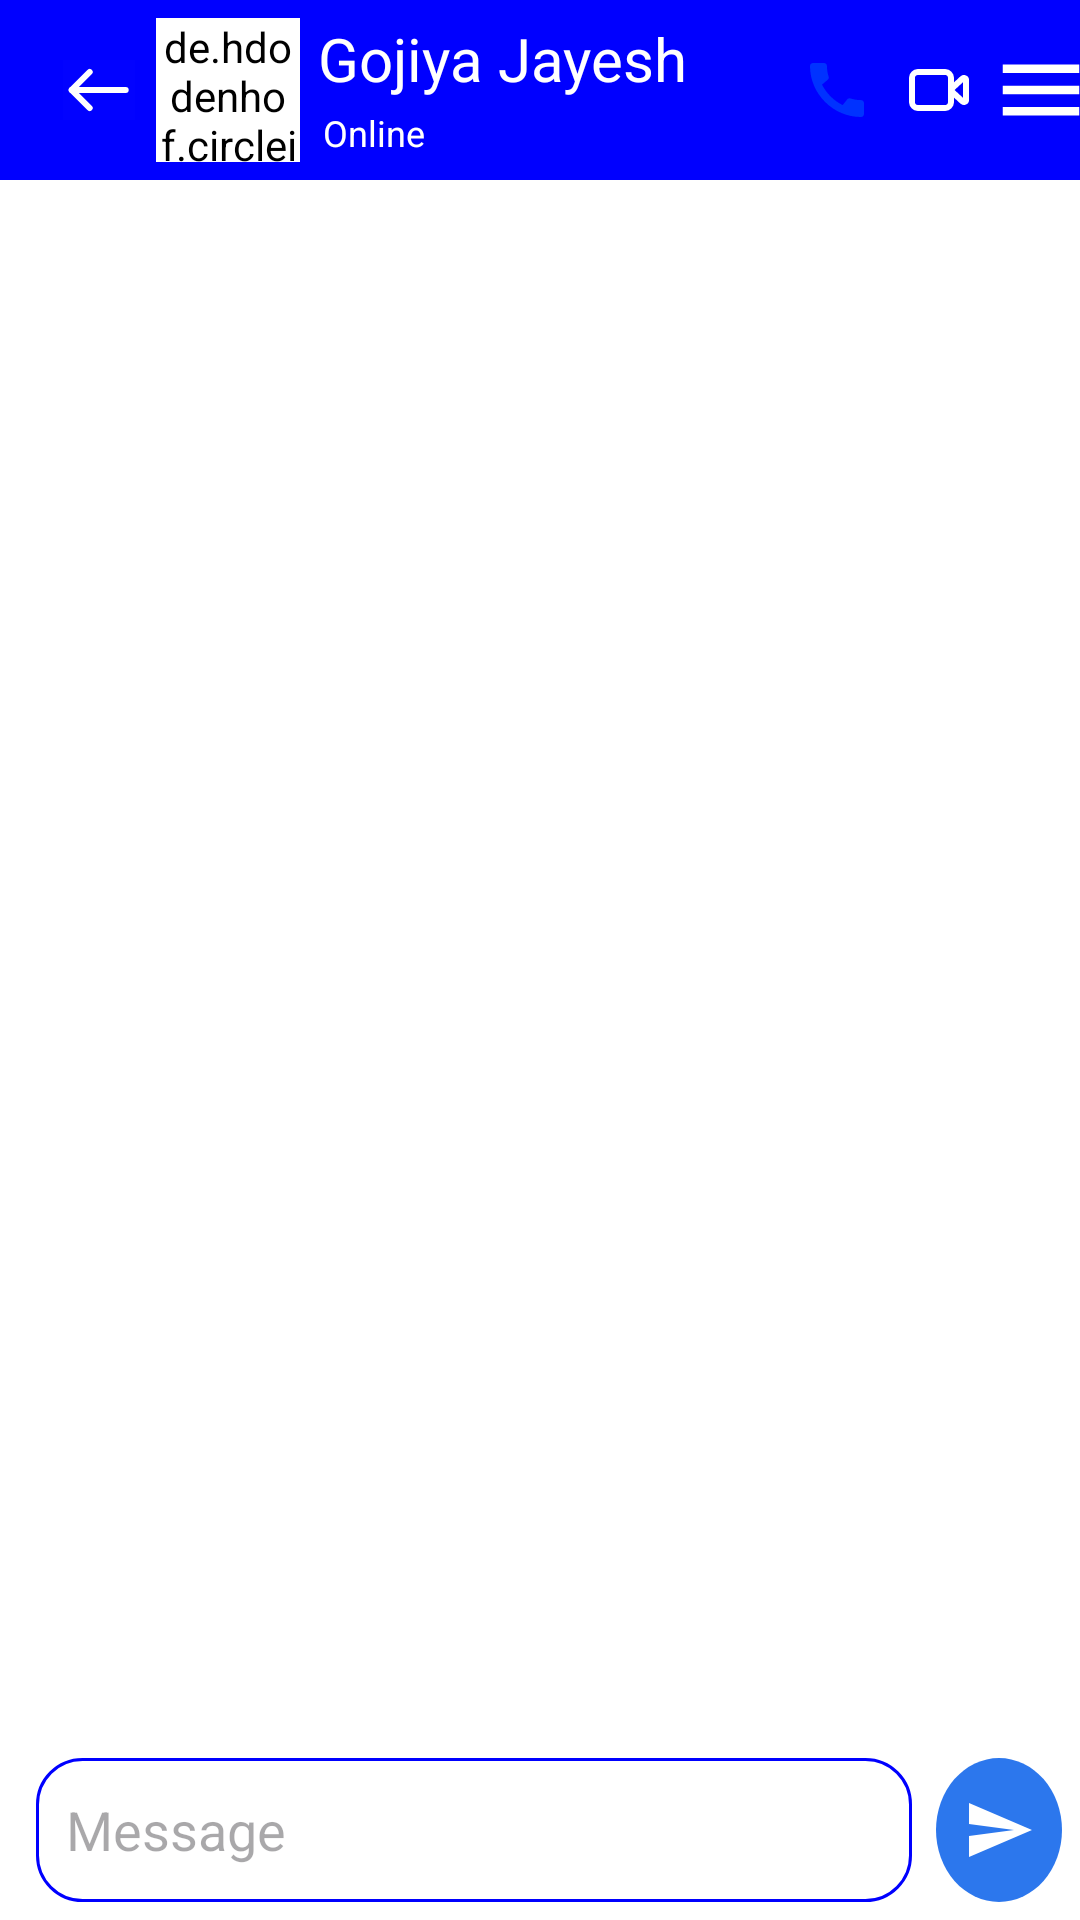

Where to tap for icons on this 1080x1920 app screen, as point (x, y):
arrow left: point (98, 90)
call: point (837, 90)
video: point (939, 90)
